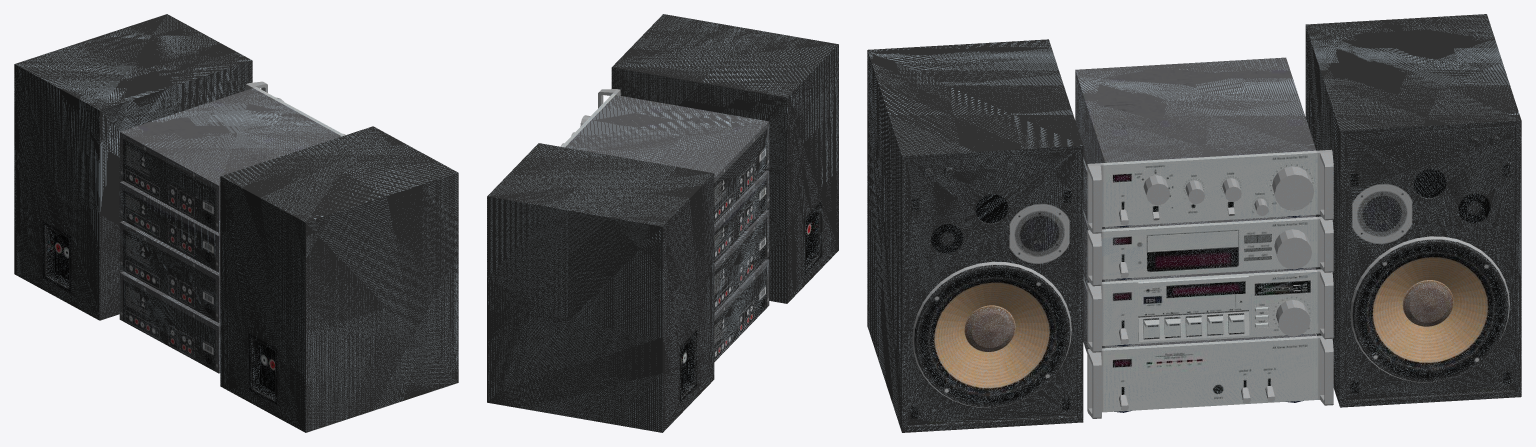
3 views of the same model, side by side, from view 1: azimuth 30°, elevation 25°; view 2: azimuth 150°, elevation 25°; view 3: azimuth 270°, elevation 25° (orthographic). The views are drawn at different scales.
Visible parts, largest first — view 1: SketchUp (×7); view 2: SketchUp (×7); view 3: SketchUp (×10).
Part boxes in pixels (x1,y1,x2,y2): SketchUp (×7): (14, 14, 458, 432); SketchUp (×7): (487, 14, 838, 432); SketchUp (×10): (867, 14, 1521, 432).
Bounding box in the file's own units: 13.08 × 25.31 × 11.81.
